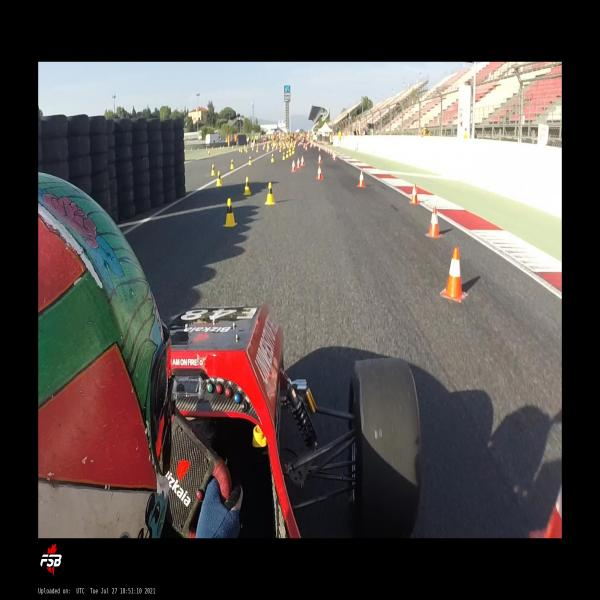orange_cone: (530, 484, 562, 538), (441, 247, 466, 302), (426, 206, 442, 238), (410, 183, 419, 205), (357, 171, 366, 188), (316, 164, 323, 180), (292, 160, 296, 172), (296, 157, 300, 169), (300, 156, 304, 166), (318, 154, 321, 164), (333, 152, 336, 160), (329, 149, 332, 155), (332, 150, 334, 158), (327, 148, 330, 153)
yellow_cone: (224, 198, 238, 226), (264, 182, 276, 205), (243, 177, 251, 195), (216, 171, 222, 186), (211, 164, 215, 176), (230, 159, 234, 169), (248, 156, 252, 165), (282, 152, 286, 160), (271, 153, 274, 162), (286, 150, 288, 158), (289, 148, 291, 156), (292, 148, 294, 154)
